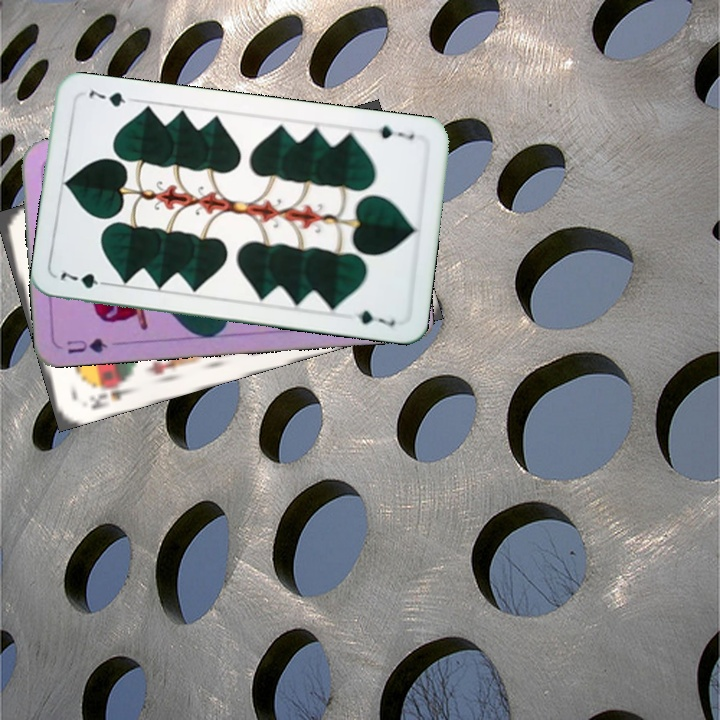G7: (56, 268, 114, 291), (374, 121, 417, 142)
GU: (62, 334, 110, 356)
SK: (85, 375, 135, 412)
